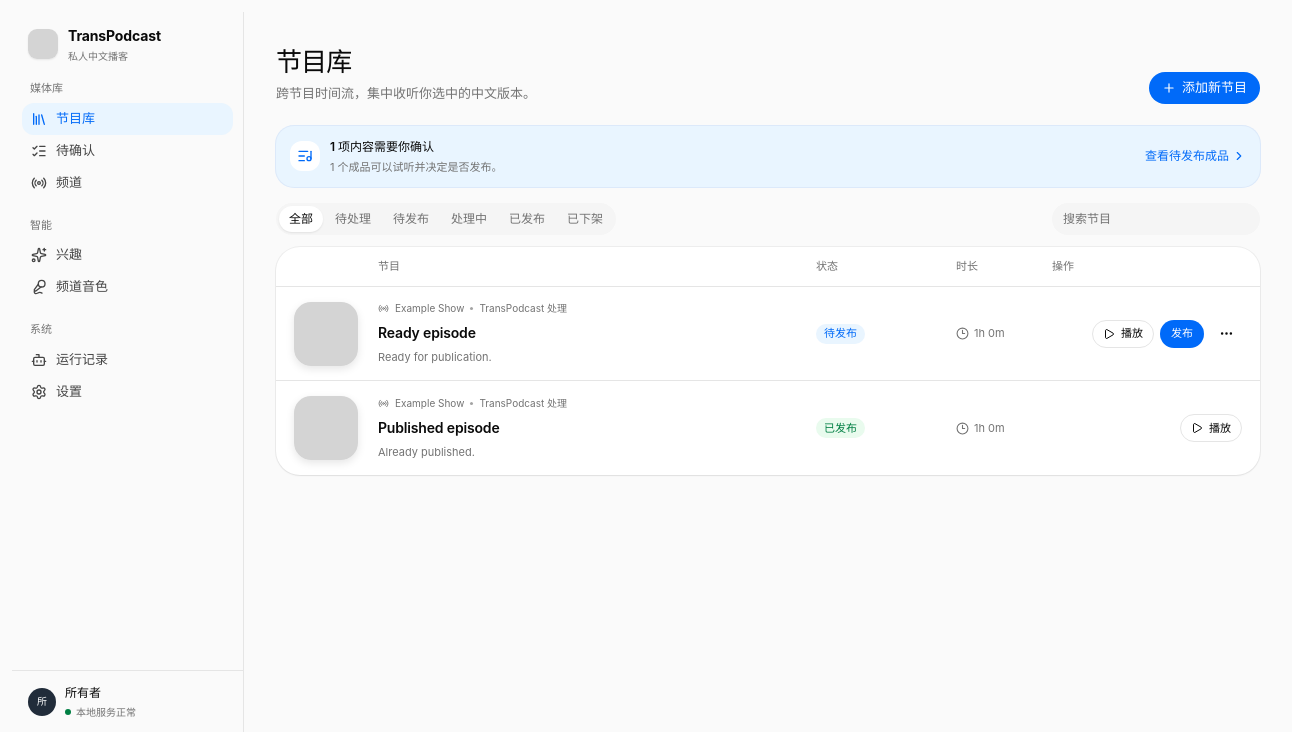
Test: TransPodcast Host navigation › keeps real decision counts aligned across navigation and the library
Check: the button "待确认" is shown, box [22,134,233,166]
Click the button "1 项内容需要你确认 1 个成品可以试听并决定是否发布。 查看待发布成品" at (382, 146), box [276,126,1260,187]
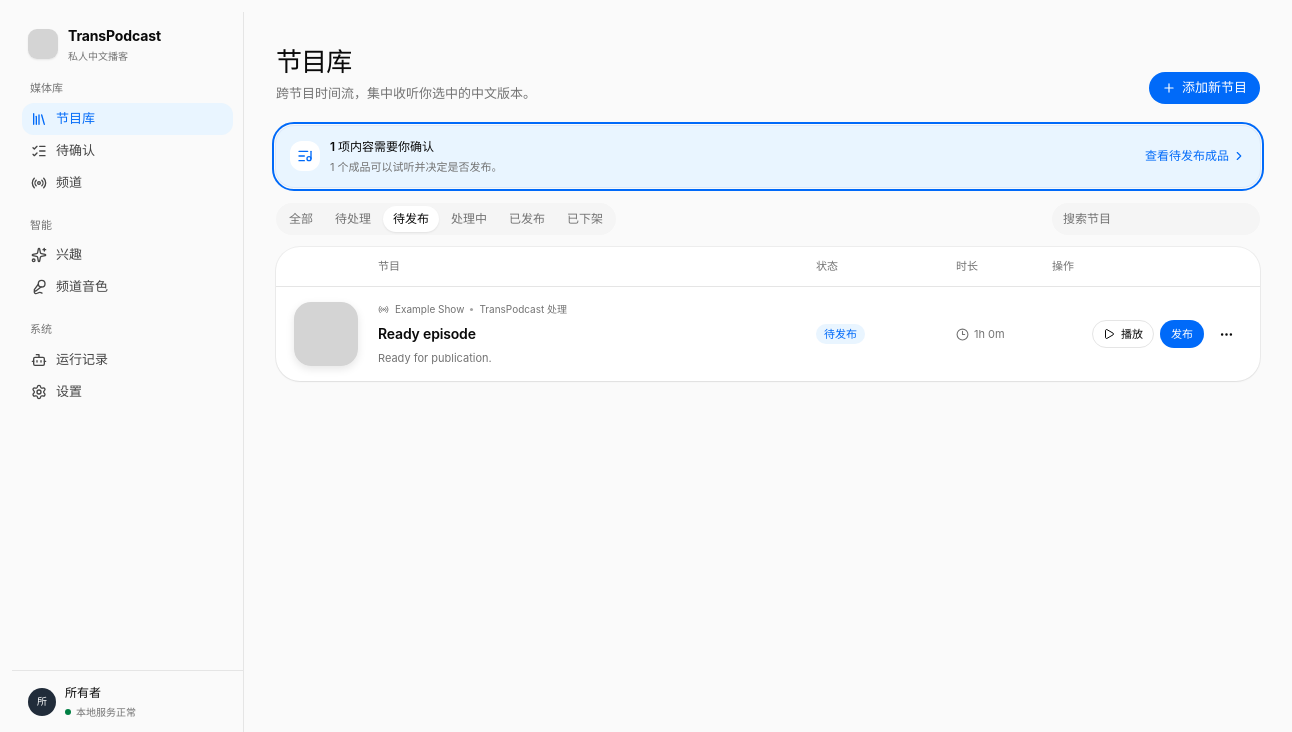
Check: the button "Ready episode" is shown, box [378,323,476,344]
Check: the button "Published episode" is gone
